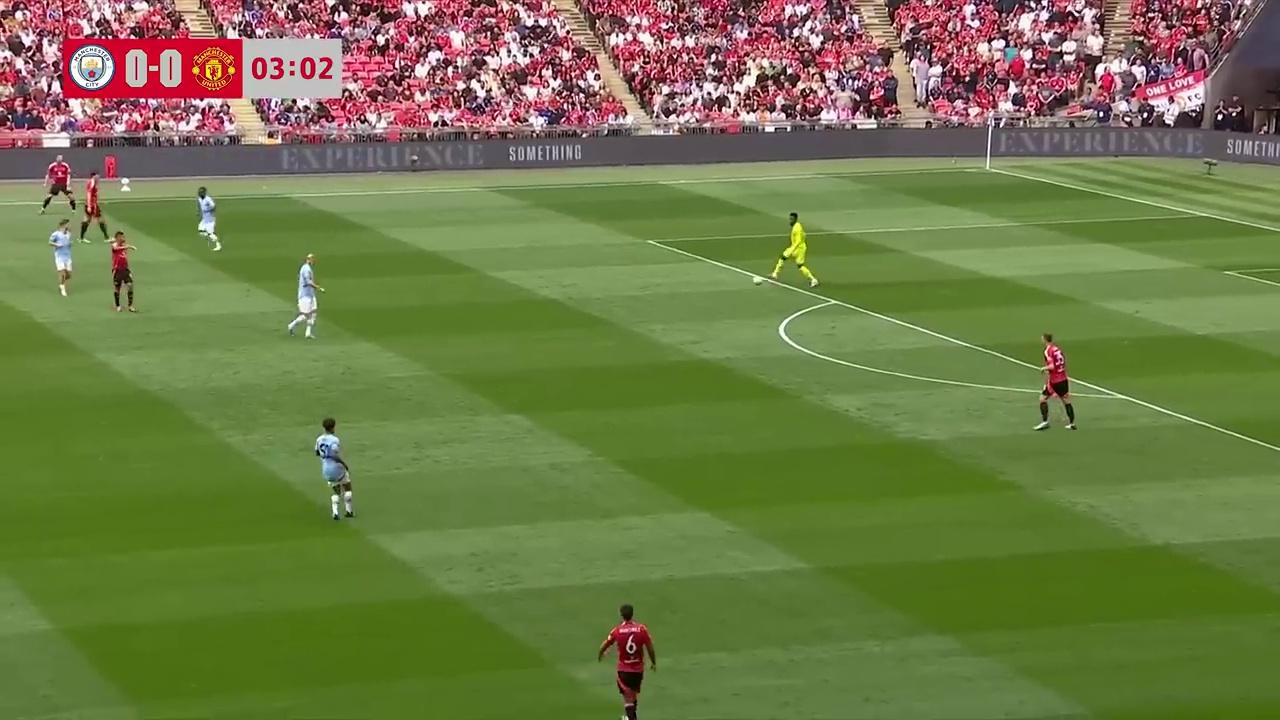ball: (753, 276, 770, 288)
player: (596, 604, 656, 720), (313, 418, 354, 520), (1035, 334, 1076, 431), (771, 212, 817, 288), (287, 257, 322, 339), (108, 229, 138, 312), (78, 170, 108, 242), (39, 159, 75, 215), (48, 218, 73, 297), (196, 186, 221, 250)
